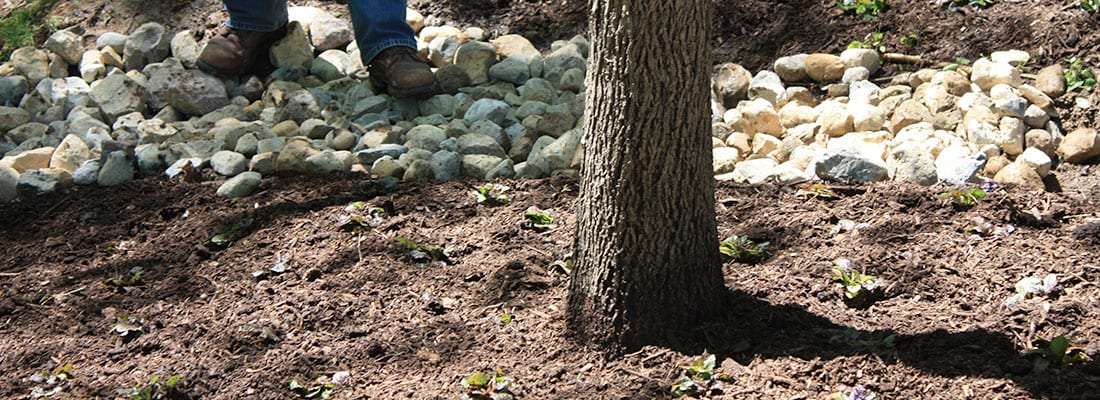dirt: (7, 195, 562, 392), (734, 189, 1094, 395)
rock: (5, 65, 571, 187), (720, 48, 1087, 183)
tree: (572, 0, 727, 347)
